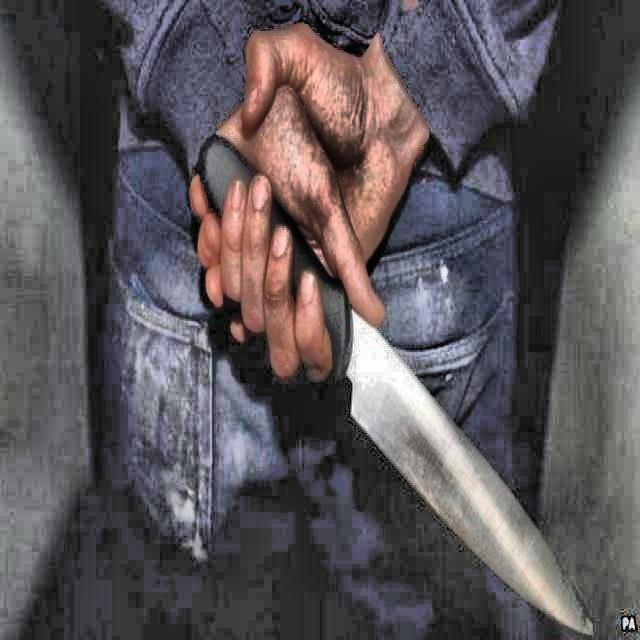knife: (198, 136, 596, 636)
